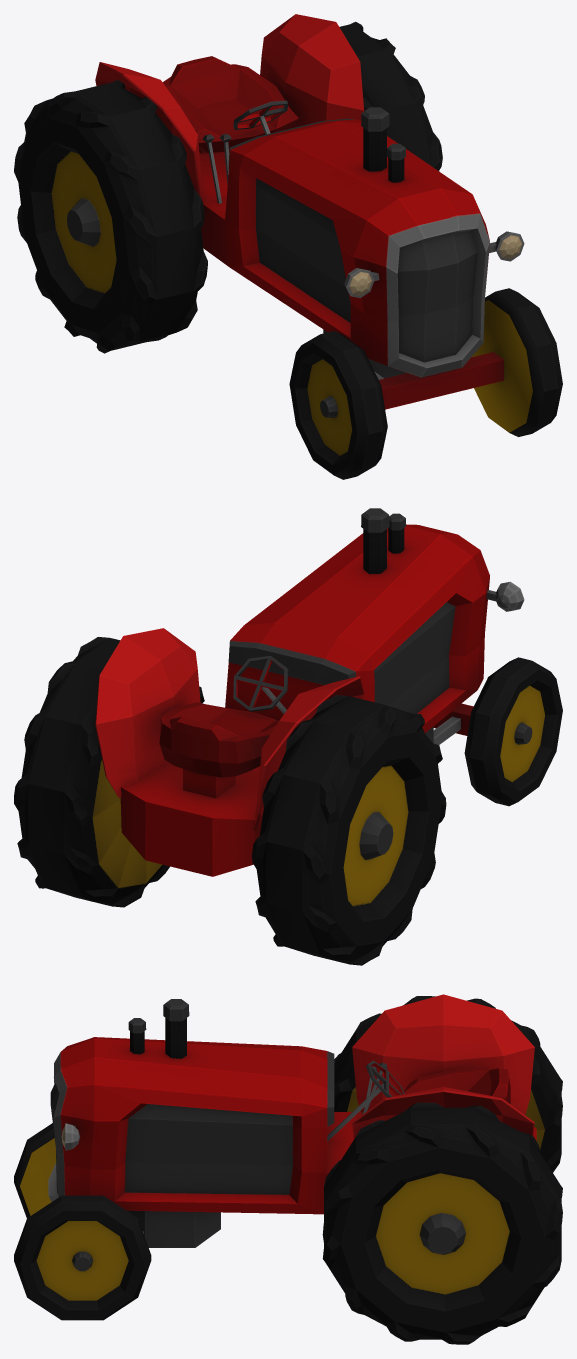
File: trekker-morph-5.glb
3 views of the same model, one above another, from view 1: azimuth 30°, elevation 25°; view 2: azimuth 150°, elevation 25°; view 3: azimuth 270°, elevation 25° (orthographic). The views are drawn at different scales.
Visible parts, largest first — view 1: node-0; view 2: node-0; view 3: node-0.
Part boxes in pixels (box(x1,y1,x2,y2)): node-0: box(14, 14, 562, 479); node-0: box(14, 508, 562, 965); node-0: box(14, 994, 562, 1344).
Size of the model in its own units: 9.35 by 8.62 by 15.49.
Materials: 1 (1 with a texture image).
